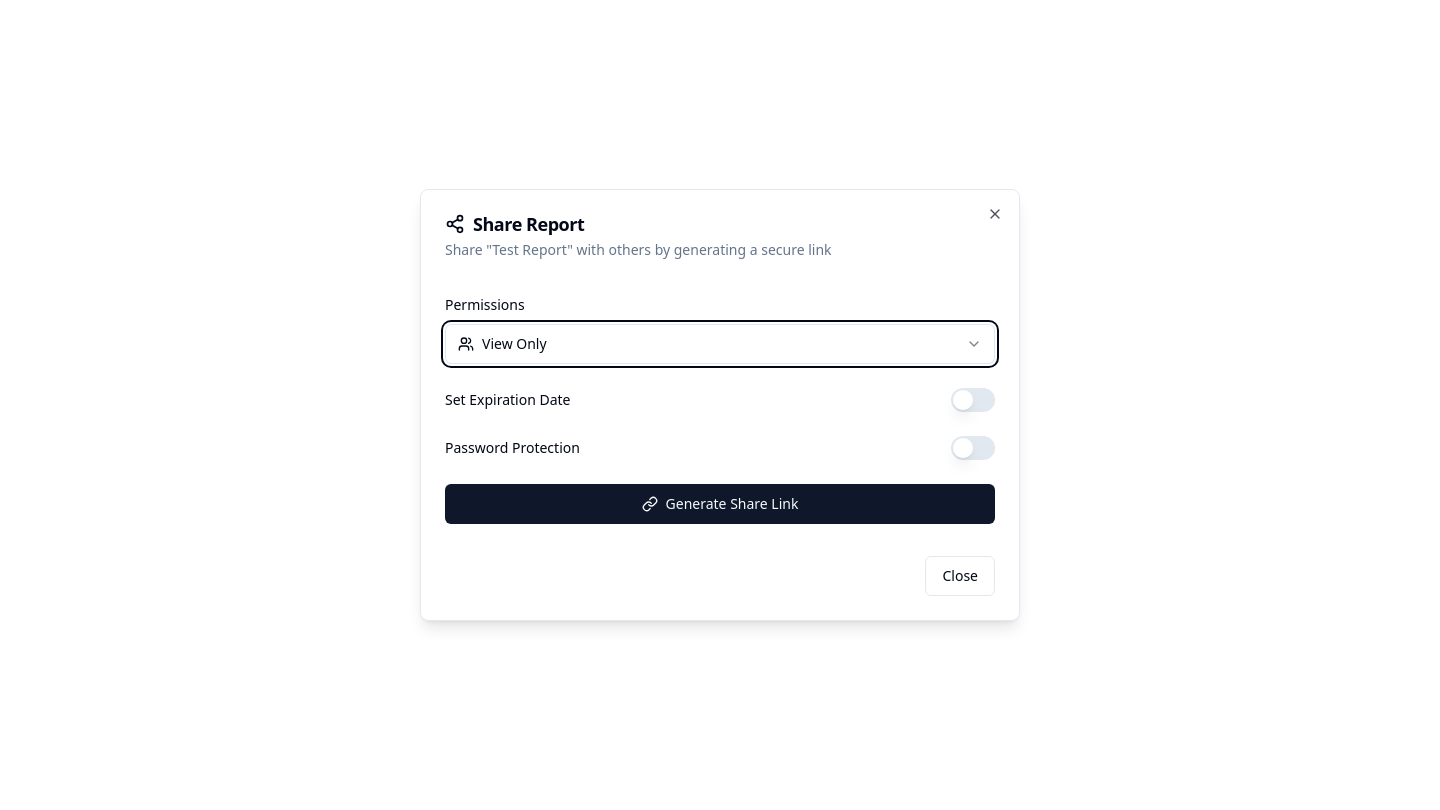
ReportSharingDialog › shows expiration date input when expiration is enabled
Click the switch named "set expiration date" in the row of "Set Expiration Date". click: coordinates (973, 400)
box: [951,388,995,412]
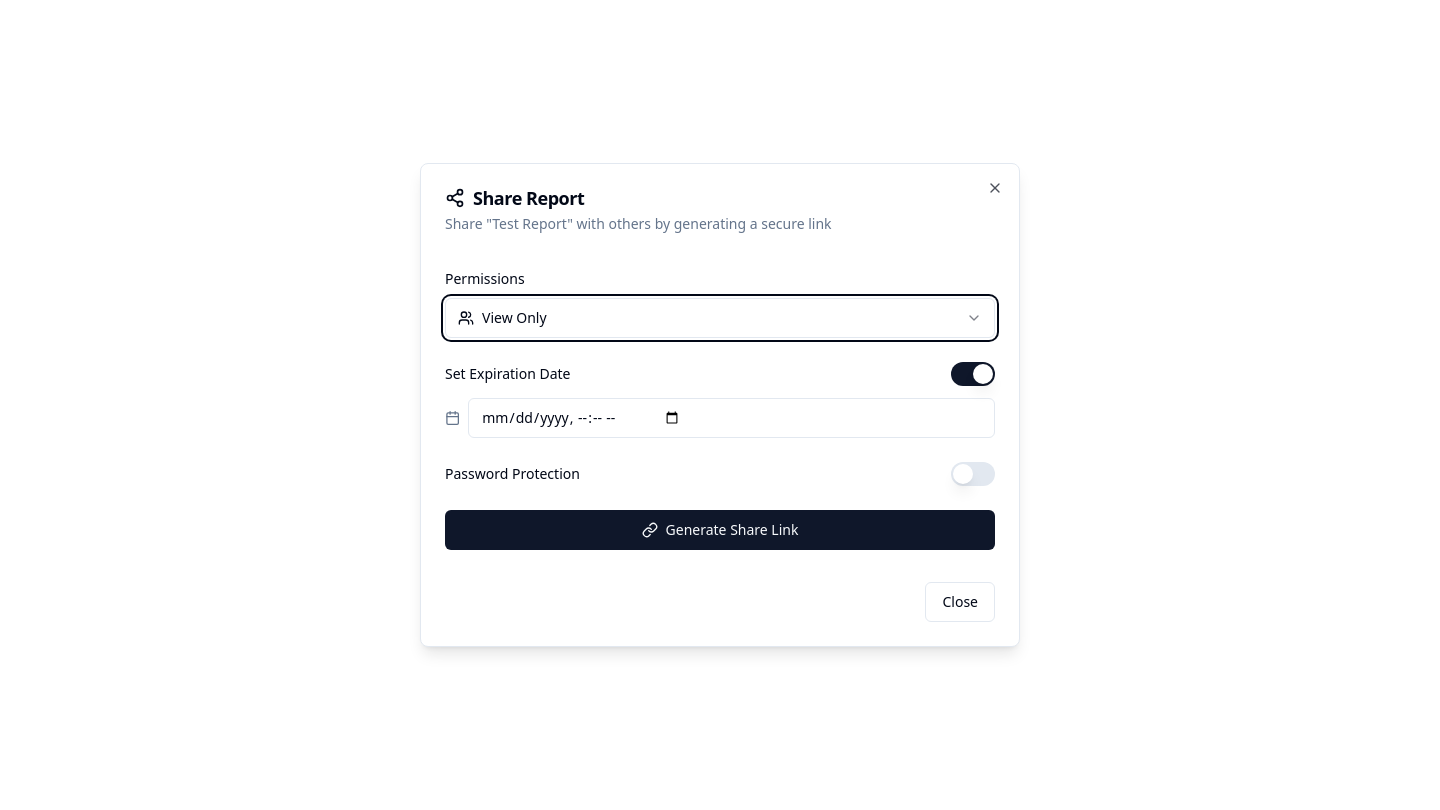
Expected: the field is shown, [468,398,995,438]
